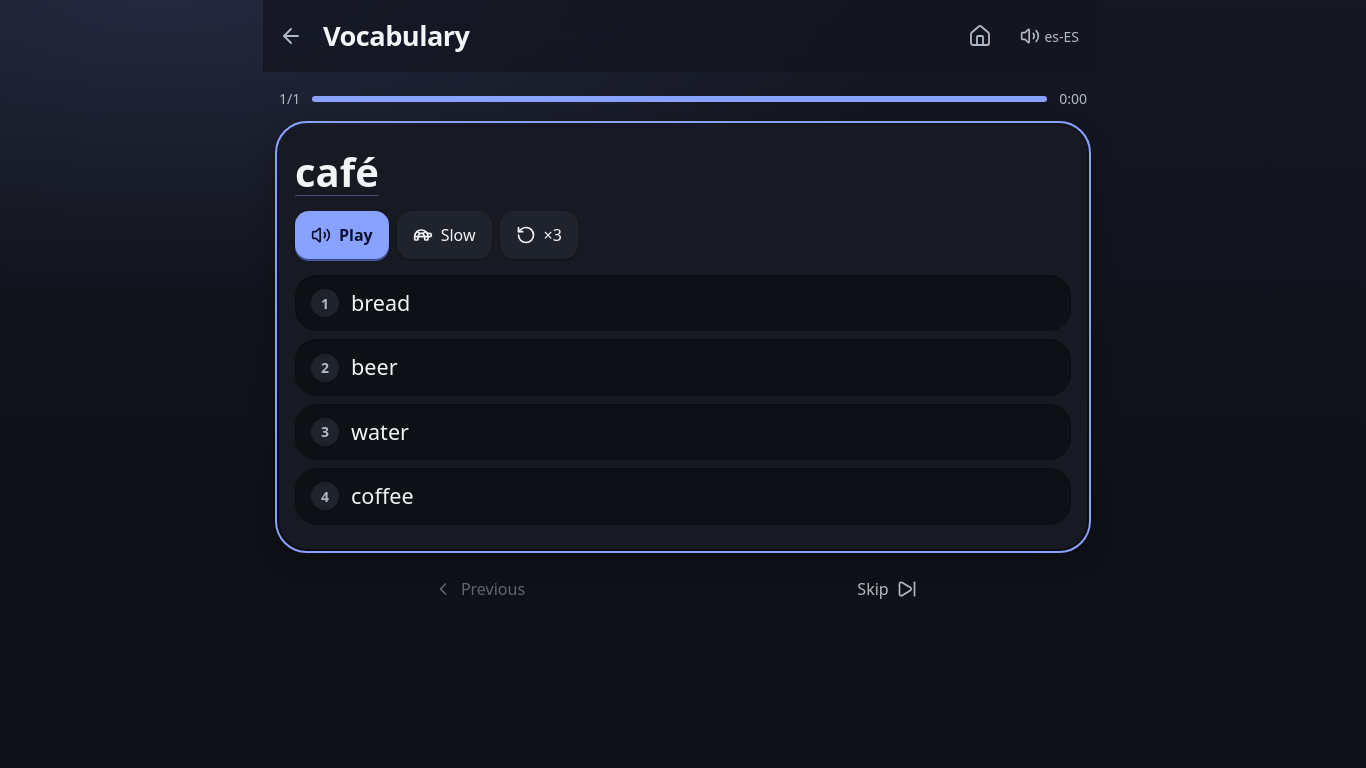
Test case: word inspection › keeps the details below the card shut until the answer is in
Expected: the text "Copy & share" is not shown
Click the button "1 bread" at (381, 302), box left=295, top=275, right=1071, bottom=331
(page scrolled)
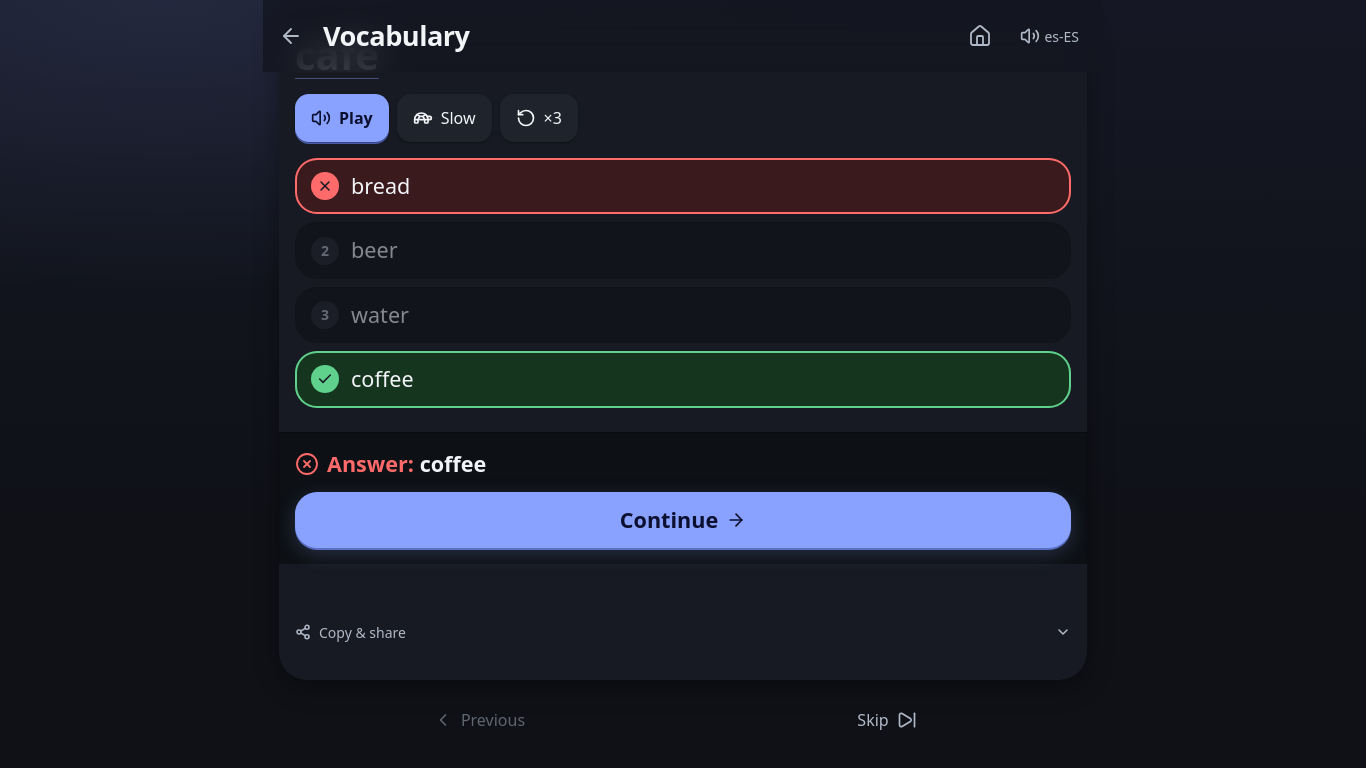
Now the heading "Copy & share" is shown, box left=295, top=623, right=1071, bottom=642
